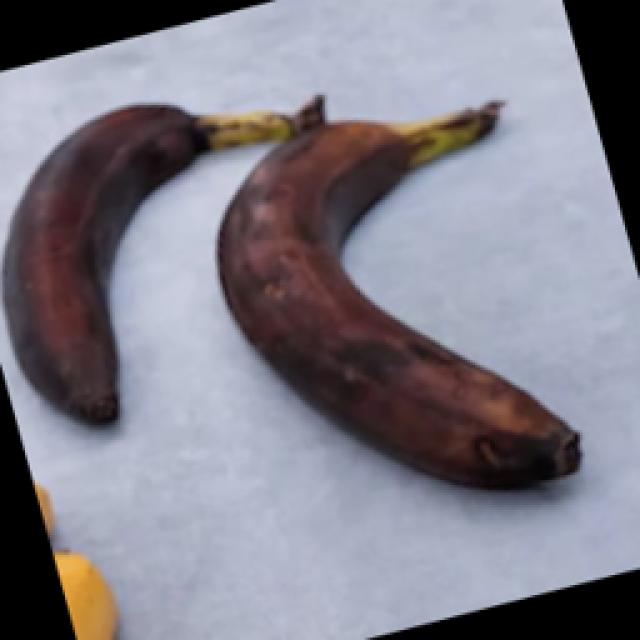Rotten_Banana: (191, 12, 622, 530)
